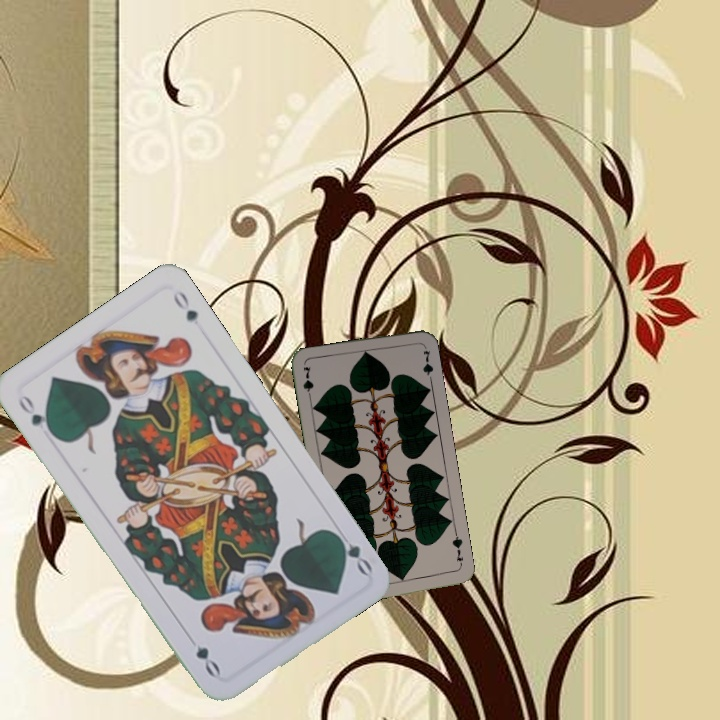G7: (448, 529, 466, 569), (299, 362, 316, 403)
GO: (329, 524, 375, 578), (13, 391, 58, 439)
